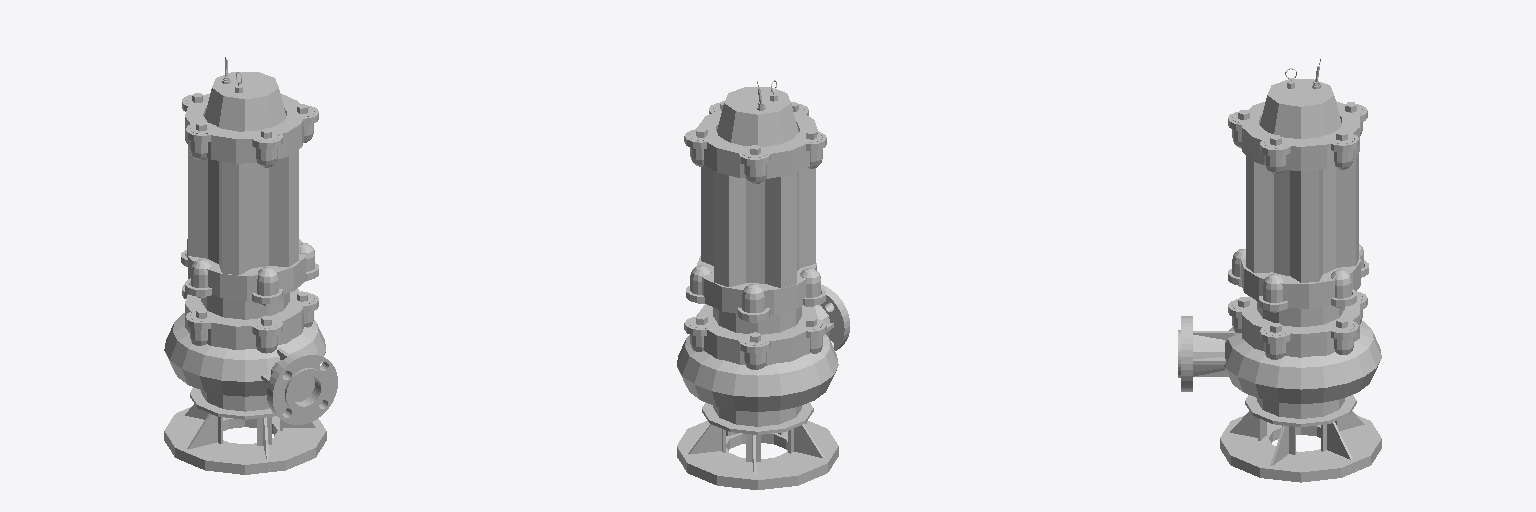
Rendered from lift_pump.obj.
3 views of the same model, side by side, from view 1: azimuth 30°, elevation 25°; view 2: azimuth 150°, elevation 25°; view 3: azimuth 270°, elevation 25° (orthographic).
Parts seen in each view (by area): view 1: __, __.1, ___.1, ___; view 2: __, __.1, ___.1, ___; view 3: __, __.1, ___.1, ___.
Boxes of the visible parts, x1=… form: __: x1=164, y1=59, x2=337, y2=474; __.1: x1=185, y1=57, x2=327, y2=419; ___.1: x1=185, y1=374, x2=316, y2=469; ___: x1=218, y1=348, x2=289, y2=445; __: x1=677, y1=80, x2=849, y2=489; __.1: x1=696, y1=81, x2=833, y2=434; ___.1: x1=688, y1=323, x2=833, y2=475; ___: x1=722, y1=429, x2=793, y2=461; __: x1=1181, y1=66, x2=1381, y2=482; __.1: x1=1178, y1=59, x2=1360, y2=426; ___.1: x1=1230, y1=411, x2=1364, y2=469; ___: x1=1193, y1=331, x2=1339, y2=454.
Bounding box in the file's own units: 82.91 × 217 × 104.